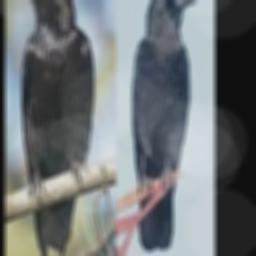Crow: (14, 0, 95, 256), (131, 0, 199, 251)
